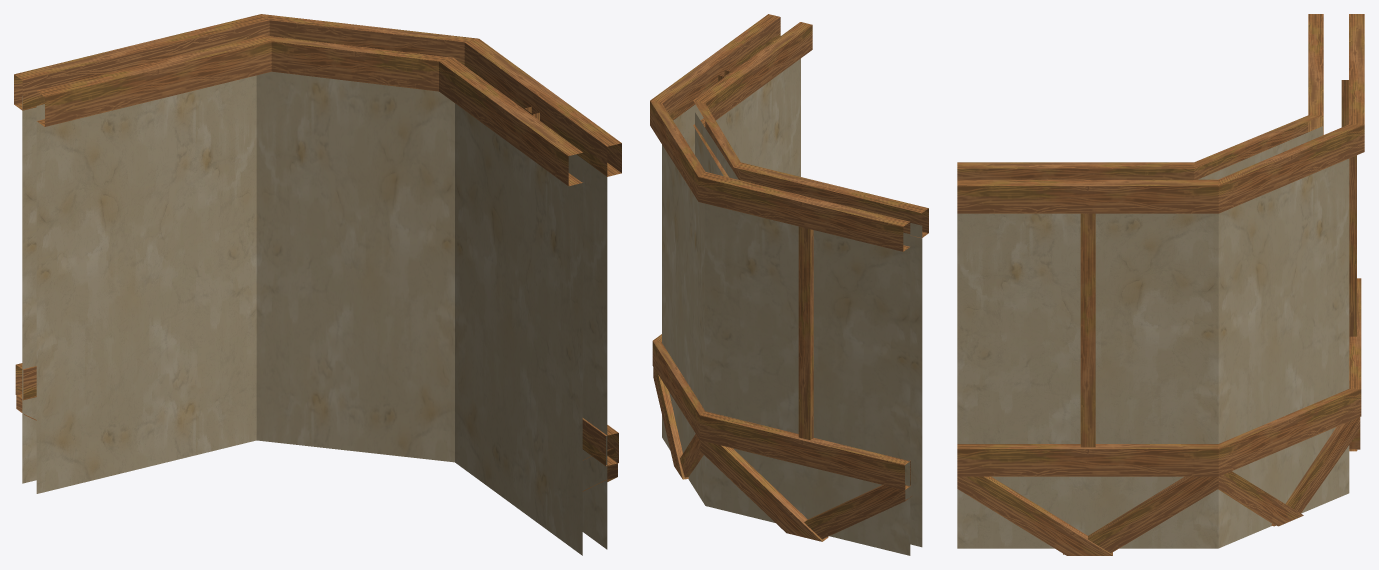
Rendered from Overhang_Plaster_Corner_Front.gltf.
The picture shows the model from 3 angles, left to right: view 1: azimuth 30°, elevation 25°; view 2: azimuth 150°, elevation 25°; view 3: azimuth 270°, elevation 25°; orthographic projection. The views are drawn at different scales.
Visible parts, largest first — view 1: Overhang_Plaster_Corner_Front; view 2: Overhang_Plaster_Corner_Front; view 3: Overhang_Plaster_Corner_Front.
Part boxes in pixels (left/top/right/bottom): Overhang_Plaster_Corner_Front: left=14, top=14, right=621, bottom=555; Overhang_Plaster_Corner_Front: left=650, top=14, right=928, bottom=555; Overhang_Plaster_Corner_Front: left=957, top=14, right=1364, bottom=555.
Bounding box in the file's own units: 3.12 × 3.14 × 3.12.
2 materials, 2 textured.
